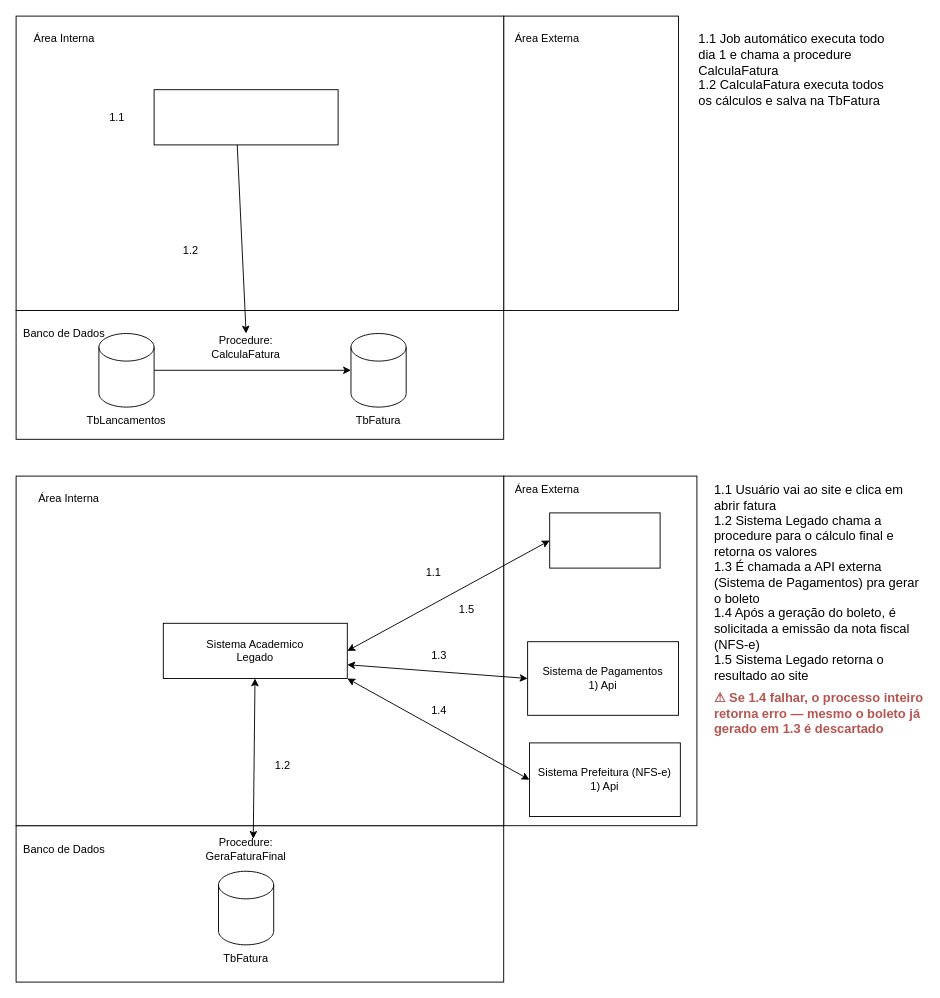
Image size: 940x998. Some labels were removed from this diagram. The centre of each missing label's shape, as x and y in pixels:
"Sistema Academico Legado 1) Job Scheduler" goes at point 245,117.
"Site 1) Action User" goes at point 604,540.
